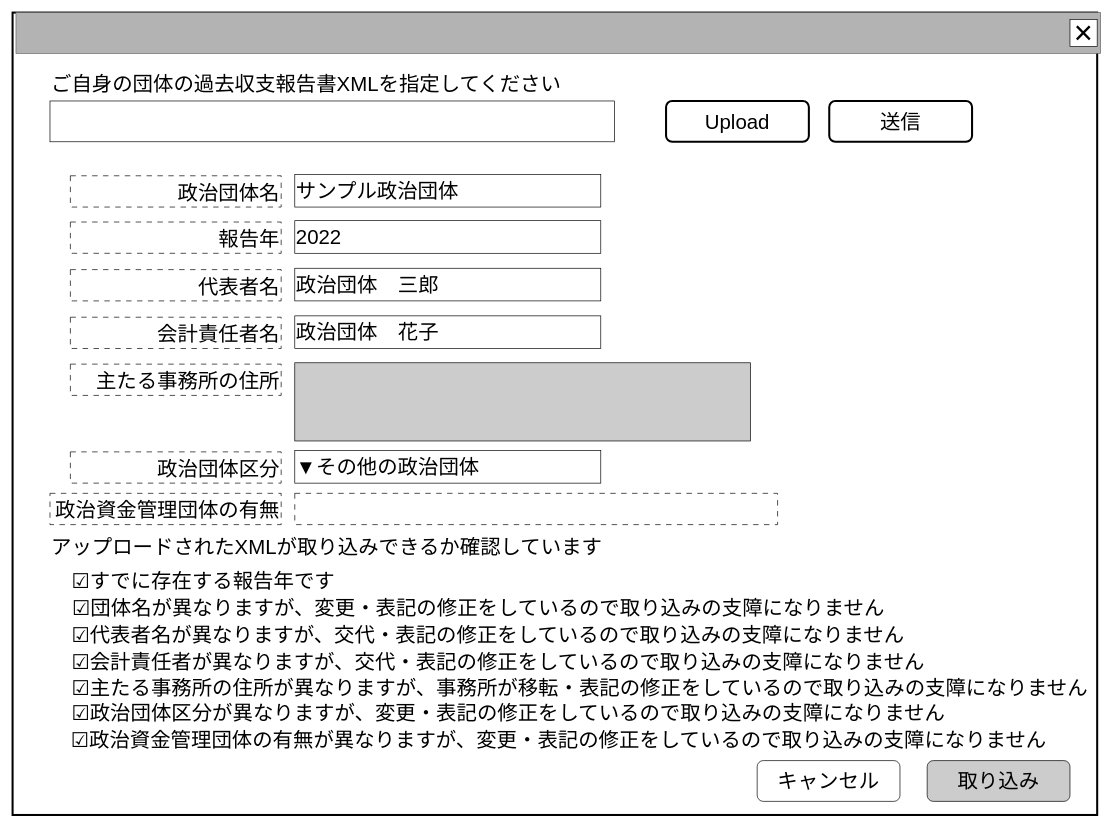
Image size: 1112x828. Some labels were removed from this diagram. Here are the shapes that lost their labels. From the top down, the centre of each, then its label:
(522,401): 東京都千代田区霞が関xxxx番地zzzビルディングqqq号室
(536,509): ☑有
